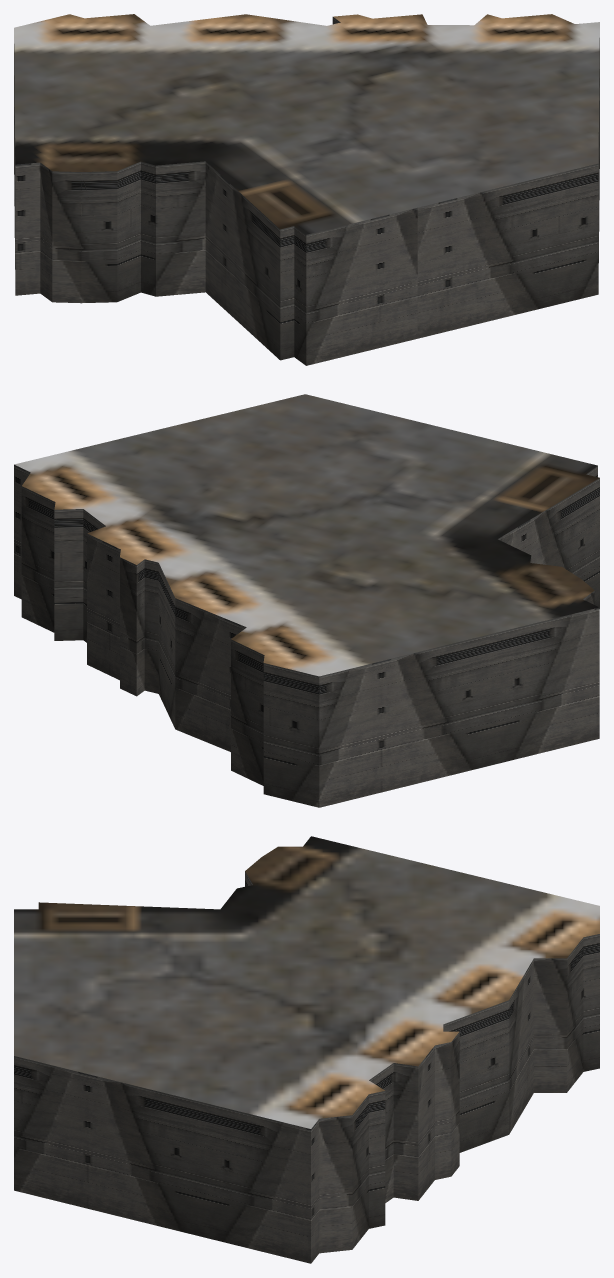
Rendered from fortress_light_a_44.glb.
3 views of the same model, one above another, from view 1: azimuth 30°, elevation 25°; view 2: azimuth 150°, elevation 25°; view 3: azimuth 270°, elevation 25° (orthographic). The views are drawn at different scales.
Parts seen in each view (by area): view 1: buildings/saxarba/fortress_light/fortress_light_a_44; view 2: buildings/saxarba/fortress_light/fortress_light_a_44; view 3: buildings/saxarba/fortress_light/fortress_light_a_44.
Part boxes in pixels (box(x1,y1,x2,y2)): buildings/saxarba/fortress_light/fortress_light_a_44: box(14, 14, 599, 365); buildings/saxarba/fortress_light/fortress_light_a_44: box(14, 394, 599, 807); buildings/saxarba/fortress_light/fortress_light_a_44: box(14, 836, 599, 1263).
Bounding box in the file's own units: 84 × 18 × 71.
